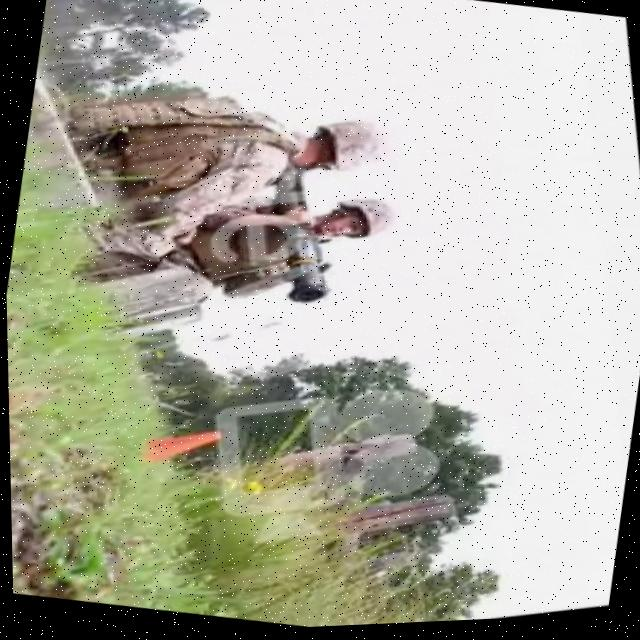rocket: (257, 168, 348, 313)
